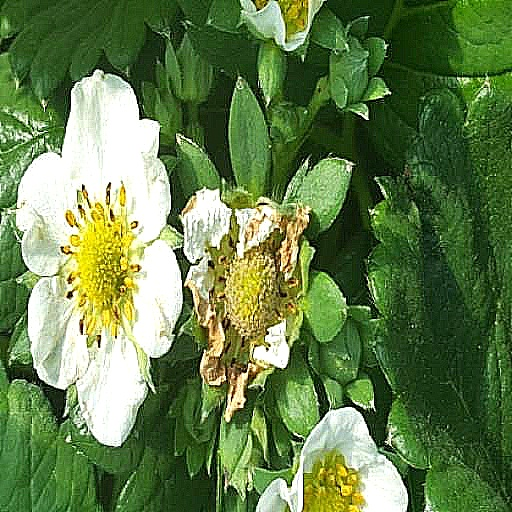Blossom Blight: (57, 178, 146, 352), (205, 220, 302, 371)
